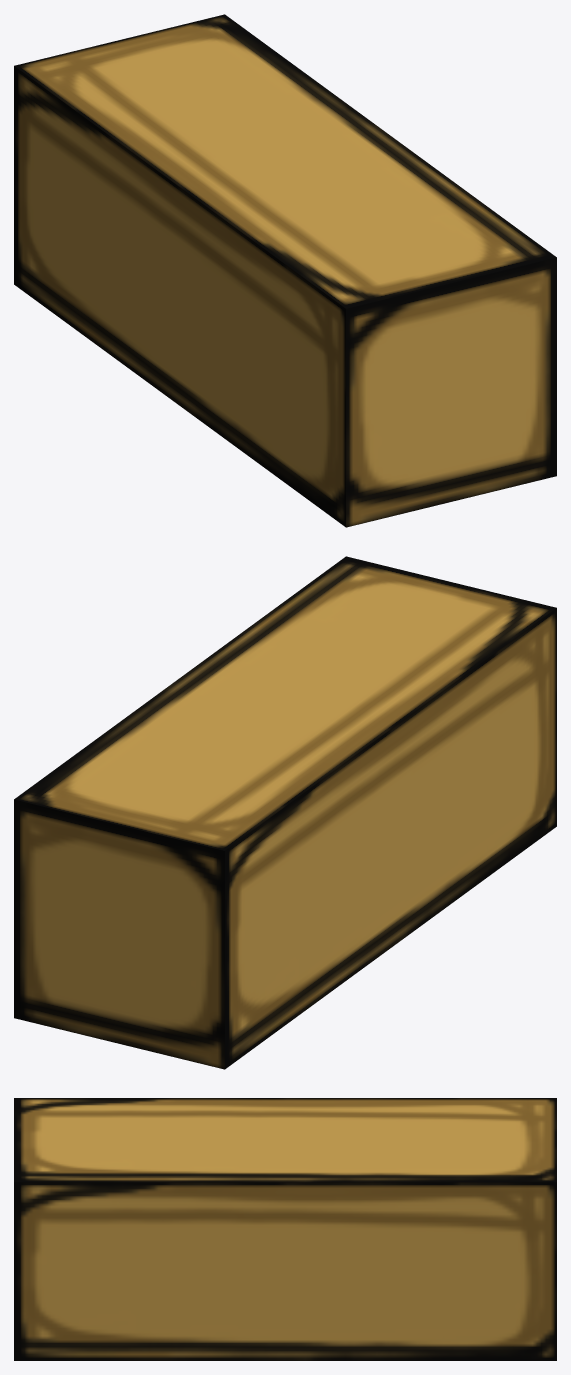
Rendered from brick.fbx.
The picture shows the model from 3 angles, top to bottom: view 1: azimuth 30°, elevation 25°; view 2: azimuth 150°, elevation 25°; view 3: azimuth 270°, elevation 25°; orthographic projection. The views are drawn at different scales.
Visible parts, largest first — view 1: Cube; view 2: Cube; view 3: Cube.
Part boxes in pixels (left/top/right/bottom): Cube: left=14, top=14, right=556, bottom=527; Cube: left=14, top=556, right=556, bottom=1069; Cube: left=14, top=1098, right=556, bottom=1360.
Size of the model in its own units: 19.19 by 19.01 by 52.33.
